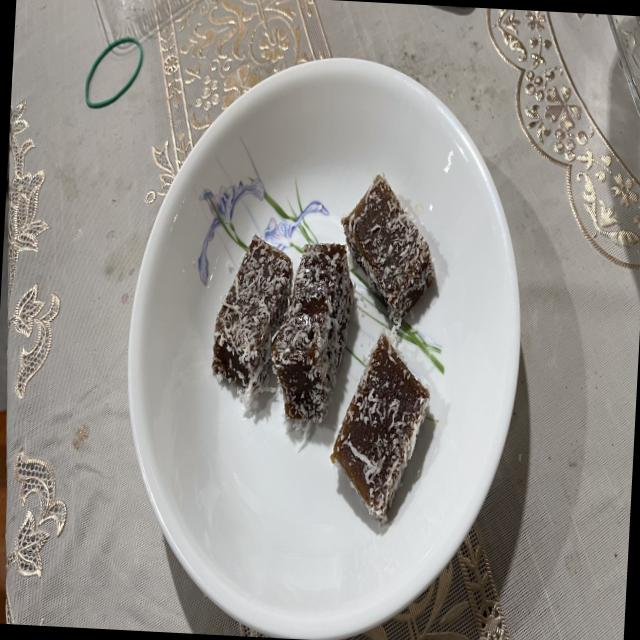kaswi: (331, 334, 430, 524), (272, 244, 354, 437), (341, 174, 435, 326), (212, 236, 293, 399)
